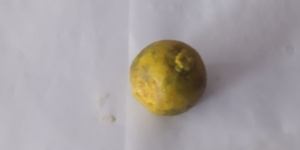BAD: (131, 39, 210, 115)
